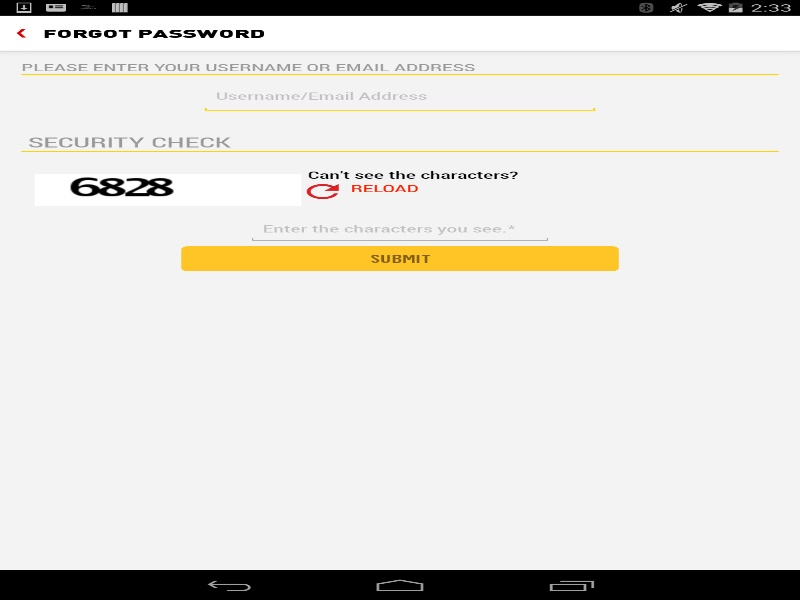Button: (181, 246, 618, 271)
Input: (200, 84, 600, 112), (246, 215, 553, 243)
